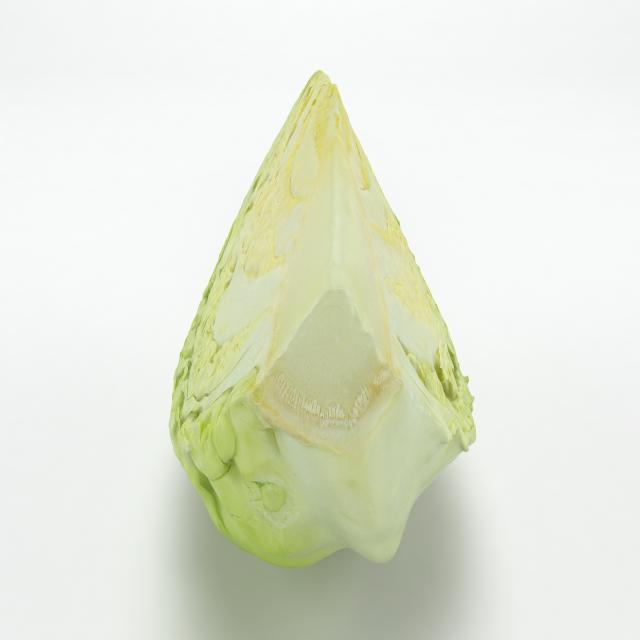haft-cabbage: (163, 64, 477, 574)
